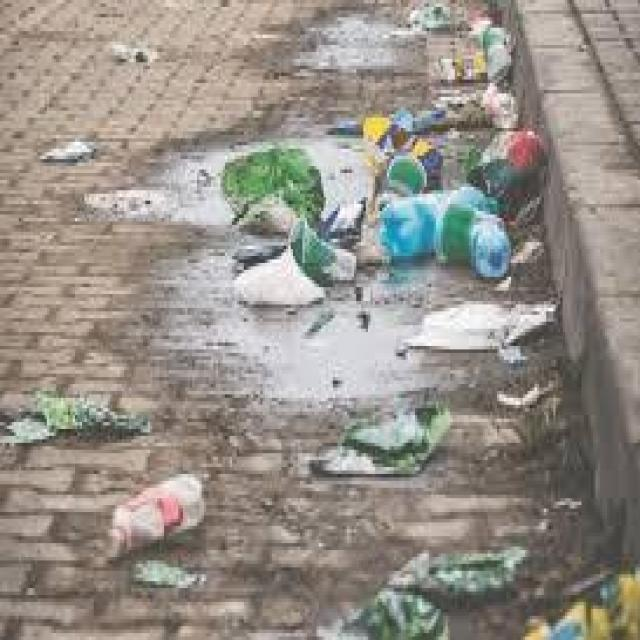curb: (505, 4, 640, 603)
